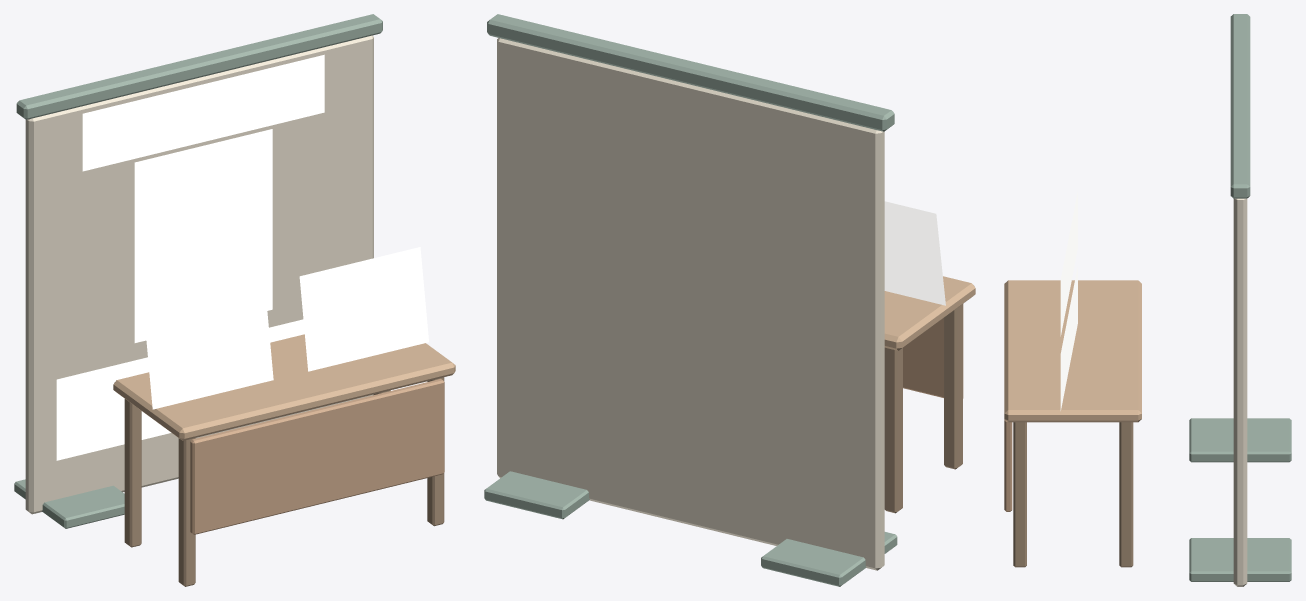
Rendered from echo_world_booth_template.glb.
3 renders of one model, left to right at view 1: azimuth 30°, elevation 25°; view 2: azimuth 150°, elevation 25°; view 3: azimuth 270°, elevation 25°, orthographic. The views are drawn at different scales.
Visible parts, largest first — view 1: MESH_BackdropBoard, MESH_TablePanel, MESH_Portrait, MESH_NamePlate, MESH_TableTop, MESH_PhotoFrame_02, MESH_PhotoFrame_01, MESH_BackdropTopTrim, MESH_Backdrop, MESH_TableLeg_03, MESH_BackdropFoot_L, MESH_TableLeg_01 (+1 smaller); view 2: MESH_BackdropBoard, MESH_BackdropTopTrim, MESH_PhotoFrame_01, MESH_BackdropFoot_L, MESH_TableTop, MESH_BackdropFoot_R, MESH_TableLeg_03, MESH_TableLeg_01, MESH_TablePanel; view 3: MESH_TableTop, MESH_BackdropBoard, MESH_BackdropFoot_L, MESH_BackdropFoot_R, MESH_BackdropTopTrim, MESH_TableLeg_04, MESH_TableLeg_02, MESH_PhotoFrame_01, MESH_PhotoFrame_02, MESH_TablePanel.
Part boxes in pixels (box(x1,y1,x2,y2)): MESH_BackdropBoard: box(25, 35, 373, 514); MESH_TablePanel: box(190, 379, 444, 534); MESH_Portrait: box(134, 129, 272, 342); MESH_NamePlate: box(82, 54, 324, 171); MESH_TableTop: box(113, 334, 455, 440); MESH_PhotoFrame_02: box(299, 247, 428, 371); MESH_PhotoFrame_01: box(144, 285, 273, 409); MESH_BackdropTopTrim: box(16, 14, 382, 119); MESH_Backdrop: box(56, 319, 304, 460); MESH_TableLeg_03: box(124, 399, 141, 547); MESH_BackdropFoot_L: box(14, 479, 124, 528); MESH_TableLeg_01: box(178, 438, 195, 586); MESH_BackdropBoard: box(497, 38, 884, 570); MESH_BackdropTopTrim: box(487, 14, 894, 131); MESH_PhotoFrame_01: box(884, 201, 945, 305); MESH_BackdropFoot_L: box(761, 532, 897, 586); MESH_TableTop: box(884, 276, 975, 350); MESH_BackdropFoot_R: box(484, 471, 589, 519); MESH_TableLeg_03: box(884, 347, 902, 513); MESH_TableLeg_01: box(944, 304, 962, 469); MESH_TablePanel: box(903, 304, 963, 398); MESH_TableTop: box(1004, 280, 1141, 422); MESH_BackdropBoard: box(1233, 198, 1247, 586); MESH_BackdropFoot_L: box(1189, 418, 1291, 462); MESH_BackdropFoot_R: box(1189, 538, 1291, 581); MESH_BackdropTopTrim: box(1230, 14, 1250, 198); MESH_TableLeg_04: box(1119, 422, 1133, 567); MESH_TableLeg_02: box(1013, 422, 1026, 567); MESH_PhotoFrame_01: box(1060, 191, 1077, 336); MESH_PhotoFrame_02: box(1060, 266, 1077, 410); MESH_TablePanel: box(1004, 419, 1012, 511).
Bounding box in the file's own units: 2.08 × 2.28 × 1.46.
